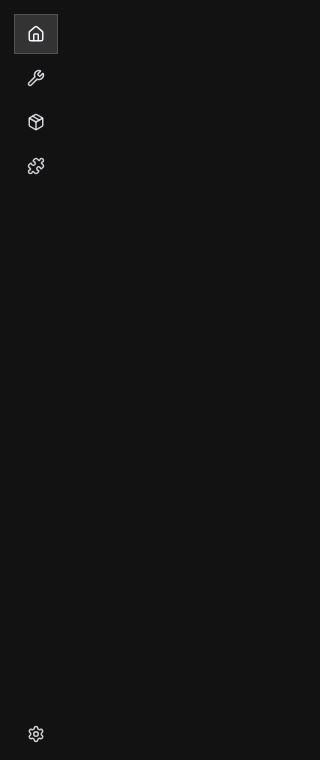
Test: Sidebar › reveals an icon-only destination on hover without a native title
Step 1. Hover over the 2nd button named "AI Tools" → (36, 78), box left=14, top=58, right=58, bottom=98
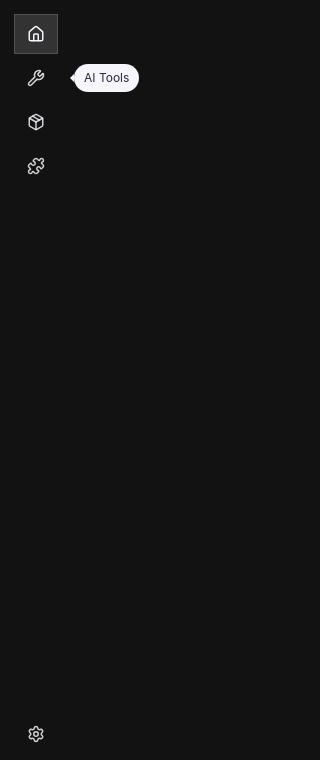
Now the tooltip reads "AI Tools", box left=84, top=70, right=129, bottom=85
